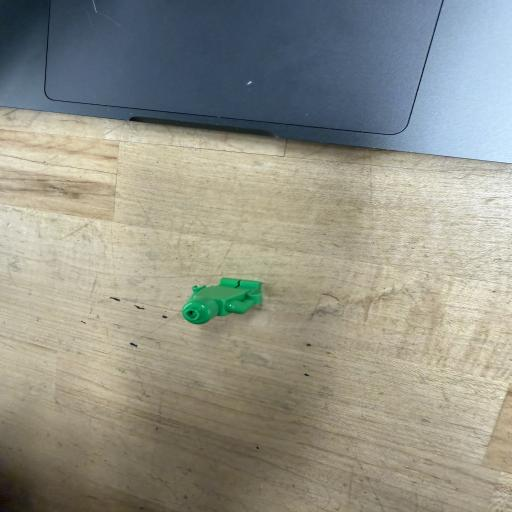green-minifig: (182, 278, 262, 324)
